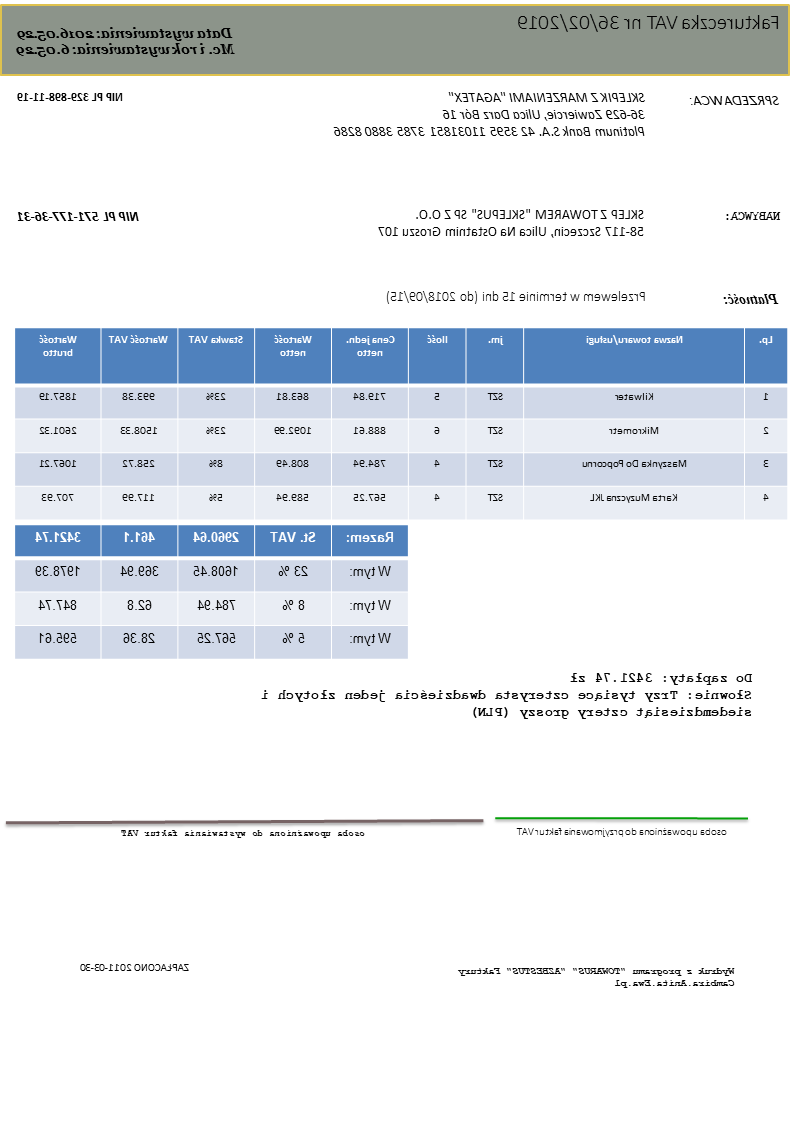Table: (15, 327, 790, 522), (15, 524, 409, 661)
TextBox: (256, 669, 756, 722), (331, 87, 650, 145), (376, 206, 648, 241), (13, 22, 239, 62), (453, 965, 739, 992), (515, 9, 784, 34), (384, 289, 649, 306), (119, 826, 368, 840), (515, 825, 731, 839), (17, 87, 127, 107), (16, 208, 142, 225), (688, 90, 784, 111), (77, 959, 192, 975), (724, 207, 784, 225), (722, 290, 781, 307)
